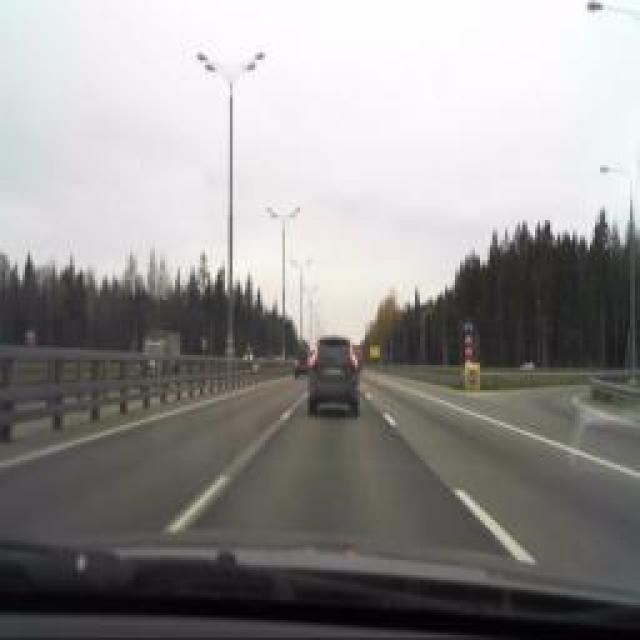sign: (464, 316, 474, 336), (469, 370, 476, 385)
